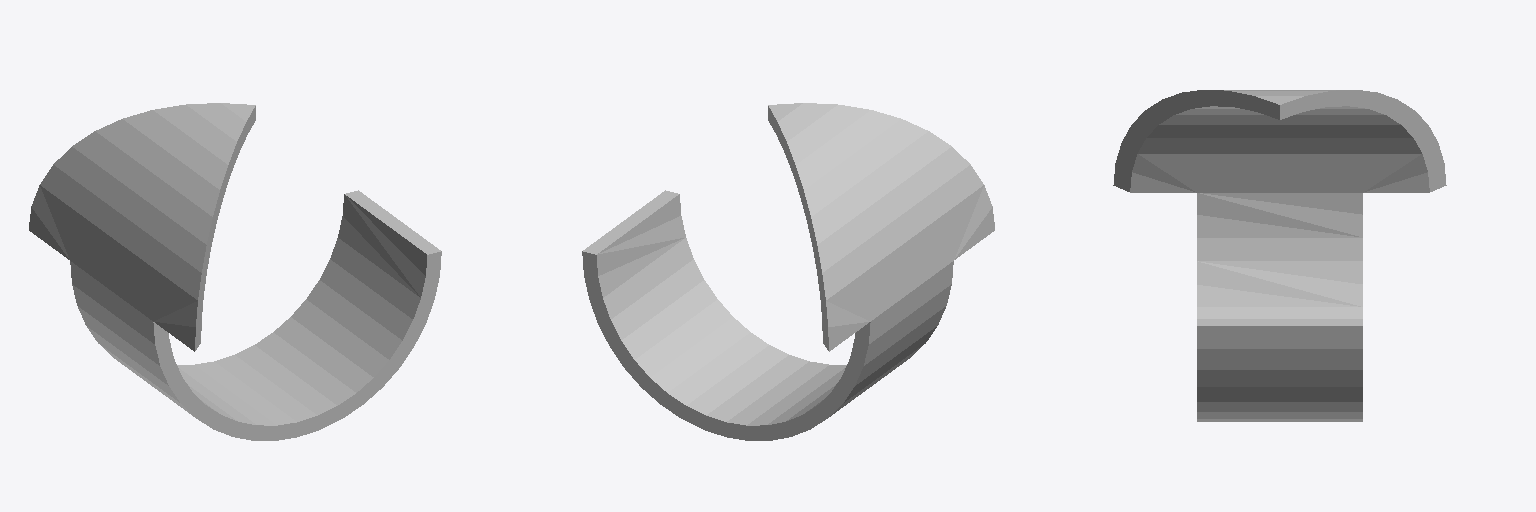
The model's file is axis.obj.
3 renders of one model, left to right at view 1: azimuth 30°, elevation 25°; view 2: azimuth 150°, elevation 25°; view 3: azimuth 270°, elevation 25°, orthographic.
Visible parts, largest first — view 1: Mesh1 Group_1 Model; view 2: Mesh1 Group_1 Model; view 3: Mesh1 Group_1 Model.
Part boxes in pixels (bbox=[...]): Mesh1 Group_1 Model: bbox=[29, 103, 441, 440]; Mesh1 Group_1 Model: bbox=[582, 103, 994, 440]; Mesh1 Group_1 Model: bbox=[1113, 90, 1446, 421].
Size of the model in its own units: 0.2 by 0.2 by 0.2.